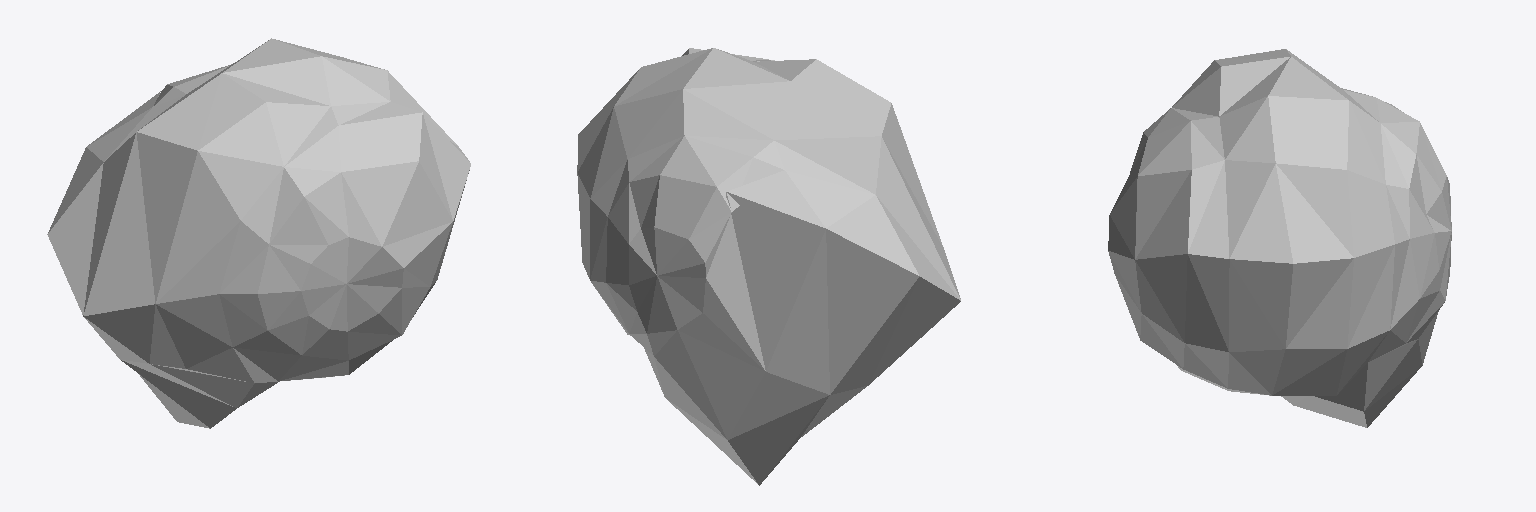
The model's file is rock.obj.
3 renders of one model, left to right at view 1: azimuth 30°, elevation 25°; view 2: azimuth 150°, elevation 25°; view 3: azimuth 270°, elevation 25°, orthographic.
Parts seen in each view (by area): view 1: Vertex_Object; view 2: Vertex_Object; view 3: Vertex_Object.
Boxes of the visible parts, box(x1,y1,x2,y2) form: Vertex_Object: box(47, 38, 470, 428); Vertex_Object: box(577, 48, 960, 485); Vertex_Object: box(1108, 49, 1451, 427).
Size of the model in its own units: 114 by 113 by 92.99.